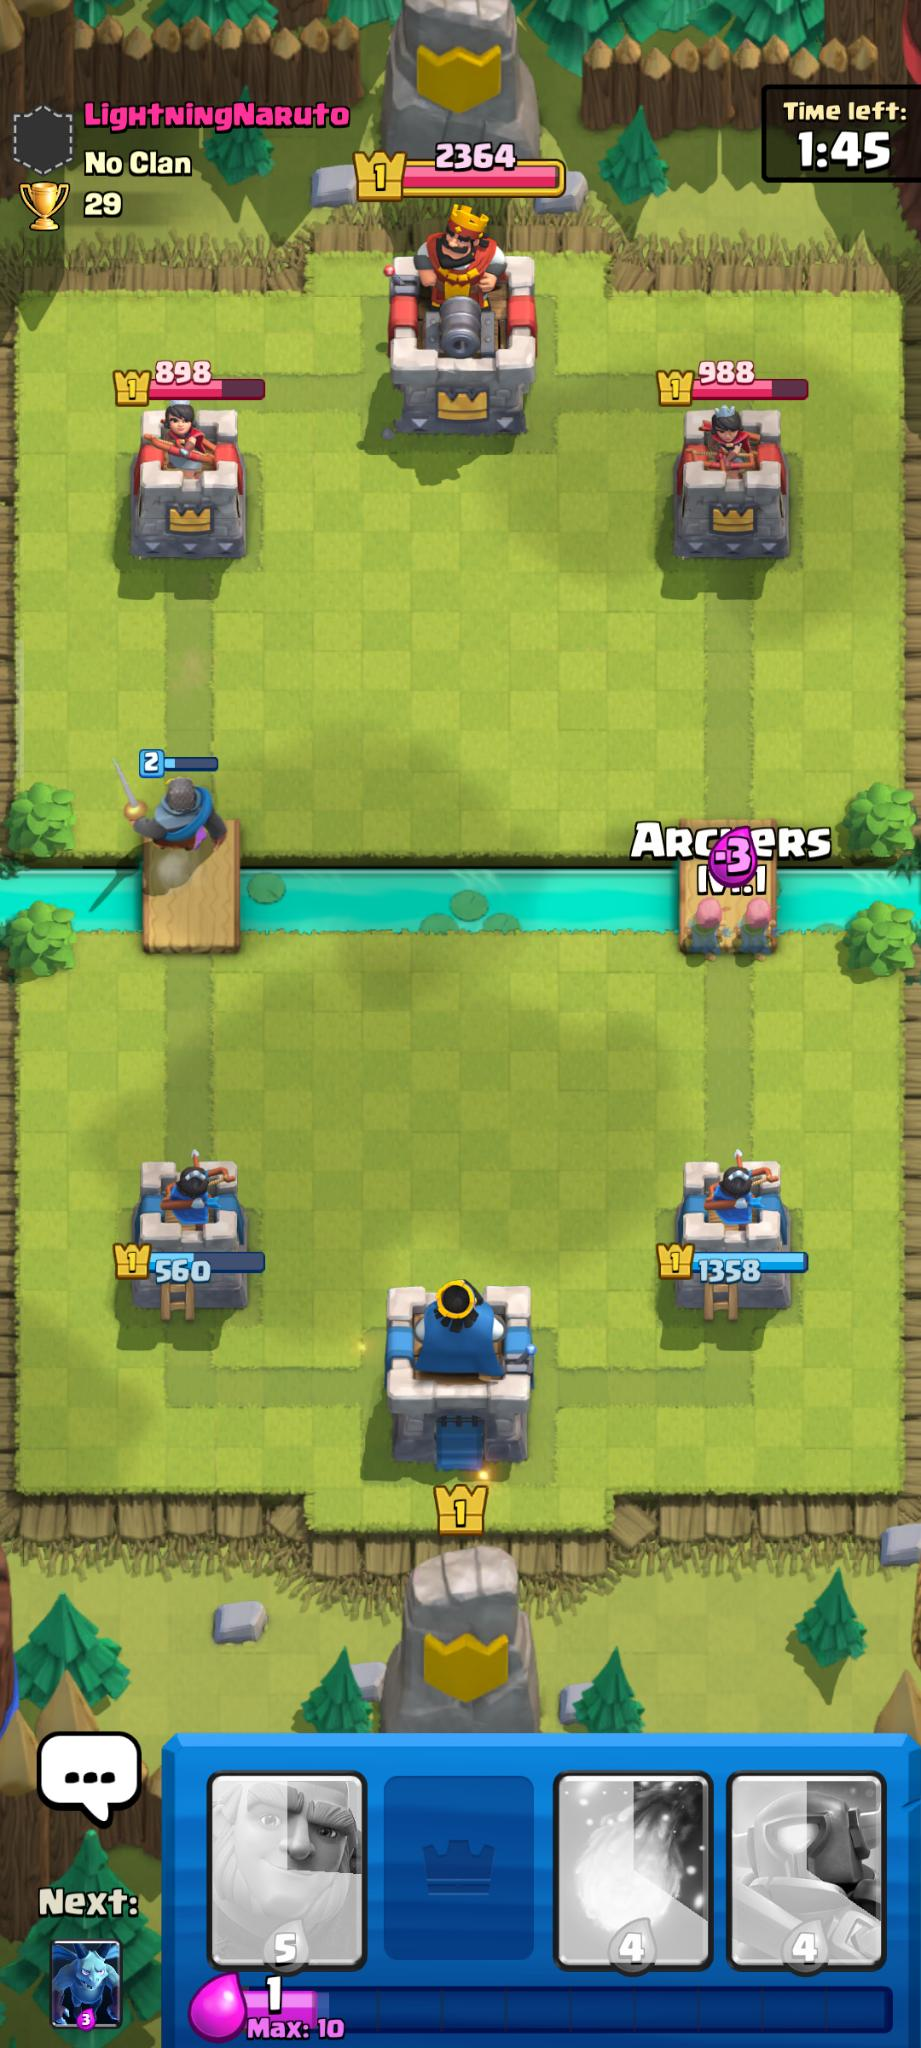archere: (735, 901, 783, 963), (683, 903, 730, 961)
